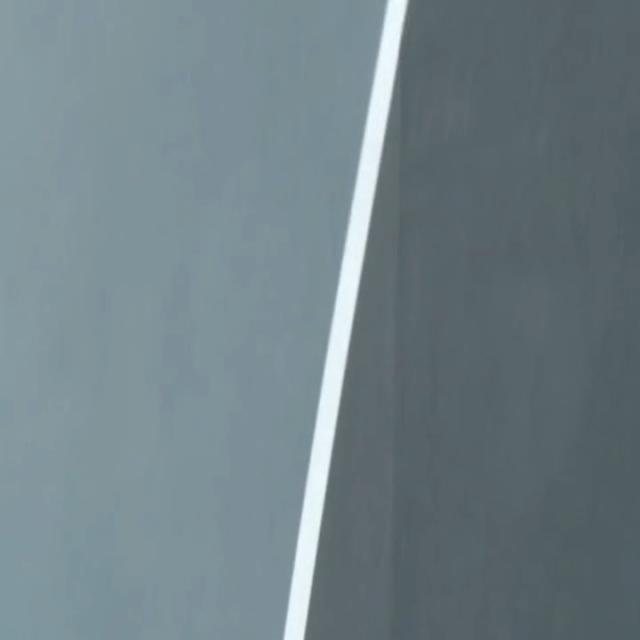left: (284, 0, 407, 639)
